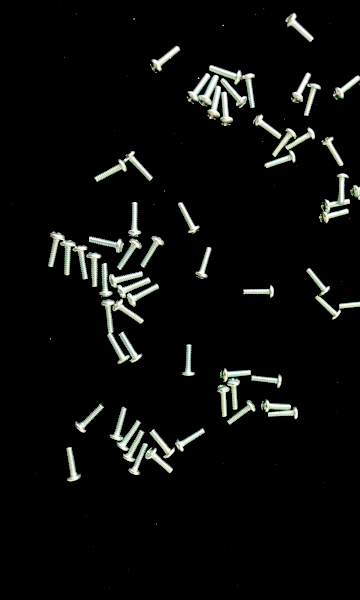shortscrew: (123, 150, 154, 182), (74, 403, 105, 434), (283, 14, 314, 43), (149, 46, 180, 74), (116, 239, 142, 272), (140, 235, 165, 269), (93, 159, 127, 184), (174, 428, 206, 454), (145, 447, 174, 475), (226, 400, 256, 427), (116, 420, 142, 451), (185, 73, 210, 105), (177, 203, 201, 236), (121, 430, 145, 463), (222, 79, 248, 109), (150, 429, 176, 459), (320, 136, 345, 167), (119, 333, 144, 364), (331, 76, 360, 102), (271, 128, 297, 157), (126, 285, 160, 307), (300, 82, 321, 117), (306, 268, 331, 297), (114, 300, 144, 324), (117, 278, 151, 299), (107, 334, 130, 365), (315, 296, 342, 322), (287, 127, 316, 151), (208, 64, 241, 85), (128, 442, 148, 476), (47, 232, 65, 269), (290, 73, 311, 104), (253, 115, 281, 138), (199, 75, 219, 107), (89, 236, 124, 254), (109, 407, 127, 442), (239, 72, 256, 109), (264, 150, 297, 169), (195, 247, 213, 281), (60, 240, 76, 277), (109, 272, 143, 289), (72, 245, 88, 281), (65, 447, 81, 483), (100, 300, 117, 333), (205, 86, 221, 121), (126, 202, 141, 238), (86, 253, 101, 288), (216, 383, 231, 418), (98, 264, 113, 298), (180, 344, 195, 378), (218, 368, 252, 383), (220, 92, 234, 127), (244, 285, 276, 299), (260, 399, 292, 413), (251, 375, 282, 389), (227, 378, 240, 411), (335, 174, 349, 204), (267, 406, 299, 419), (338, 297, 360, 311), (348, 180, 360, 198), (358, 183, 360, 202)
